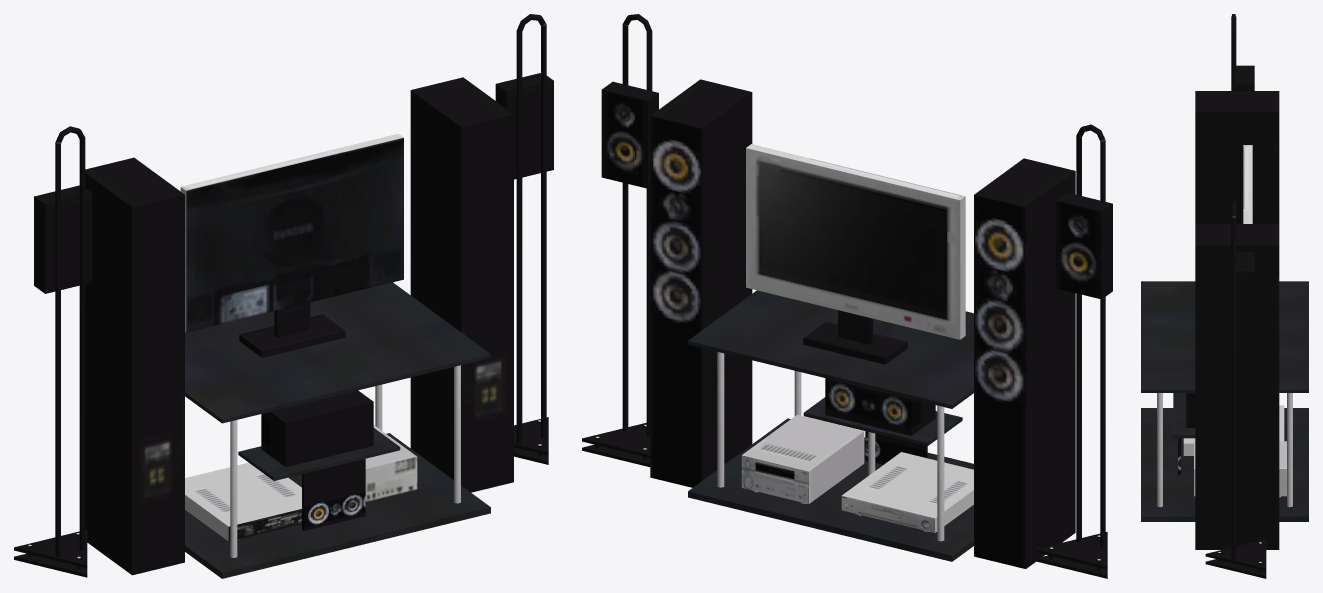
The model's file is furni_0200440.FBX.
The picture shows the model from 3 angles, left to right: view 1: azimuth 30°, elevation 25°; view 2: azimuth 150°, elevation 25°; view 3: azimuth 270°, elevation 25°; orthographic projection. The views are drawn at different scales.
Parts seen in each view (by area): view 1: furni_0200440; view 2: furni_0200440; view 3: furni_0200440.
Boxes of the visible parts, box(x1,y1,x2,y2) form: furni_0200440: box(14, 14, 553, 578); furni_0200440: box(582, 14, 1112, 578); furni_0200440: box(1141, 14, 1308, 578).
Bounding box in the file's own units: 152 × 120 × 49.97.
